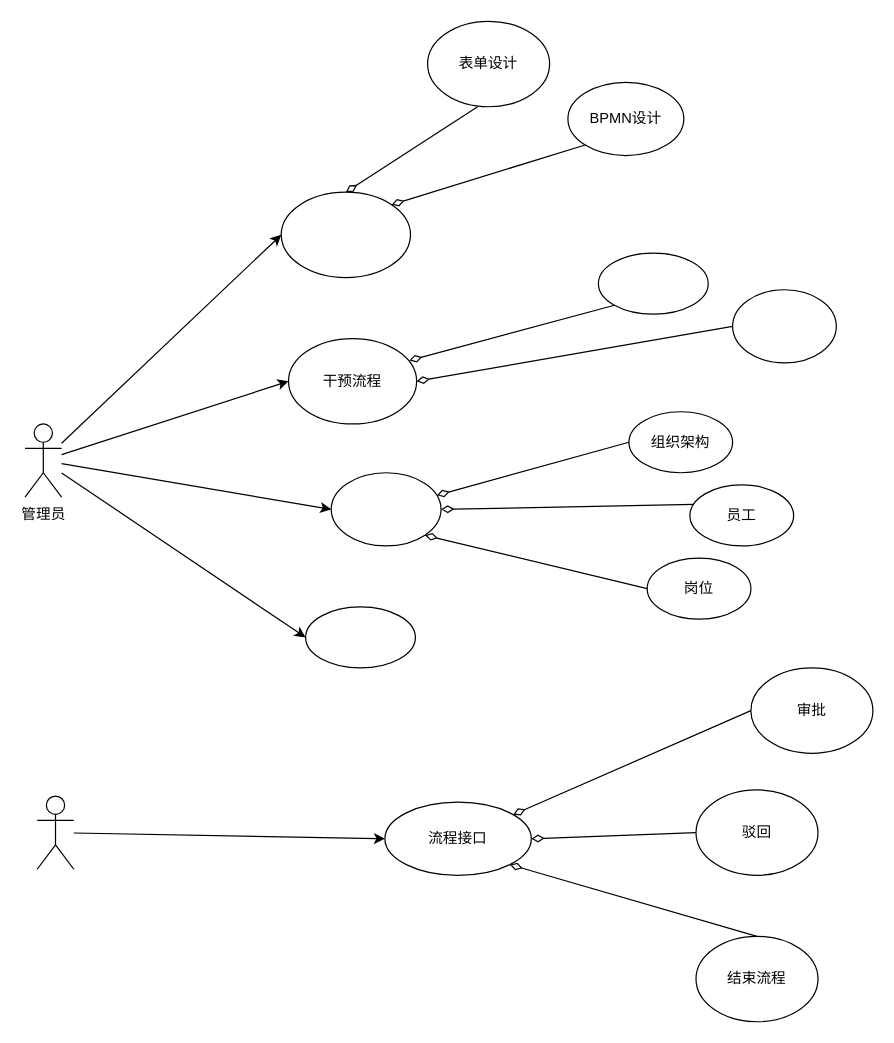
Some shapes in this 894 by 1043 pixel diagram are drawn without their labels. Here are the shapes that lost their labels. From the top down, the box of each, then its label:
(280, 191, 411, 278): 设计流程
(597, 252, 708, 314): 异常流程
(731, 289, 836, 363): 特殊处理
(330, 472, 441, 546): 维护数据
(304, 606, 415, 668): 审计
(36, 795, 74, 869): 业务系统
